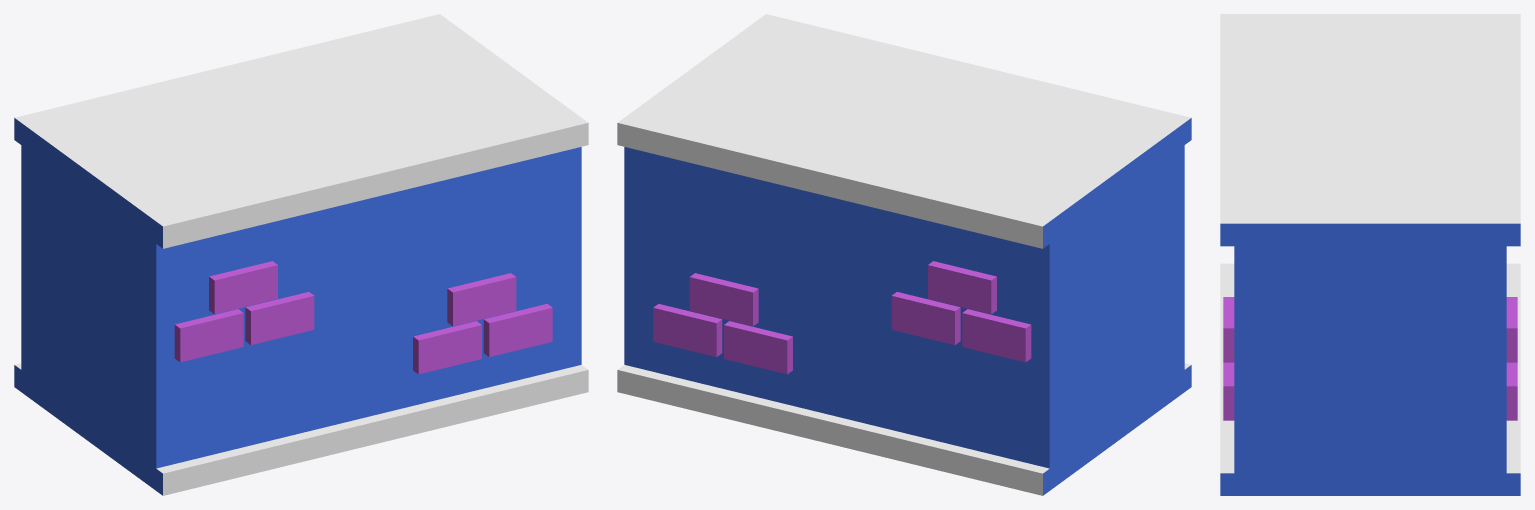
Rendered from platform_mid.fbx.
The picture shows the model from 3 angles, left to right: view 1: azimuth 30°, elevation 25°; view 2: azimuth 150°, elevation 25°; view 3: azimuth 270°, elevation 25°; orthographic projection.
Parts seen in each view (by area): view 1: Cube; view 2: Cube; view 3: Cube.
Part boxes in pixels (x1,y1,x2,y2): Cube: (14, 14, 588, 495); Cube: (617, 14, 1191, 495); Cube: (1220, 14, 1520, 495).
Size of the model in its own units: 331 by 200 by 200.
